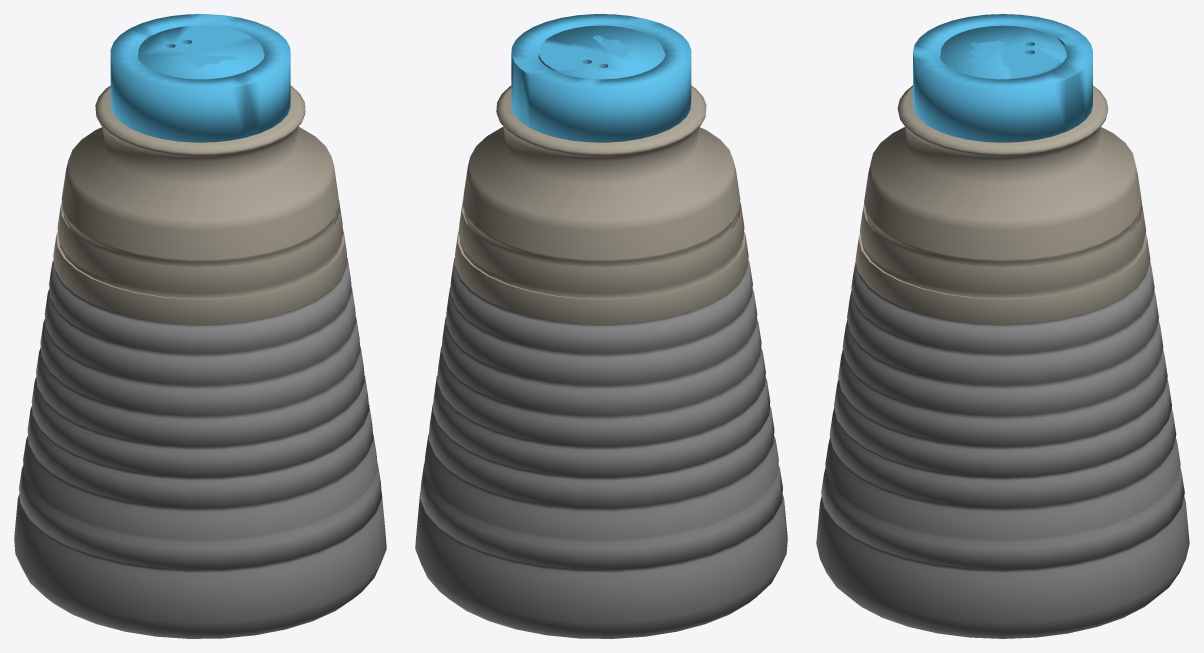
File: peppershaker.fbx
3 renders of one model, left to right at view 1: azimuth 30°, elevation 25°; view 2: azimuth 150°, elevation 25°; view 3: azimuth 270°, elevation 25°, orthographic.
Visible parts, largest first — view 1: Single Pepper Shaker Object; view 2: Single Pepper Shaker Object; view 3: Single Pepper Shaker Object.
Boxes of the visible parts, <box> form: Single Pepper Shaker Object: <box>14,14,386,638</box>; Single Pepper Shaker Object: <box>415,14,787,638</box>; Single Pepper Shaker Object: <box>816,14,1189,638</box>.
Size of the model in its own units: 356 by 552 by 356.
Materials: 2 (1 with a texture image).
